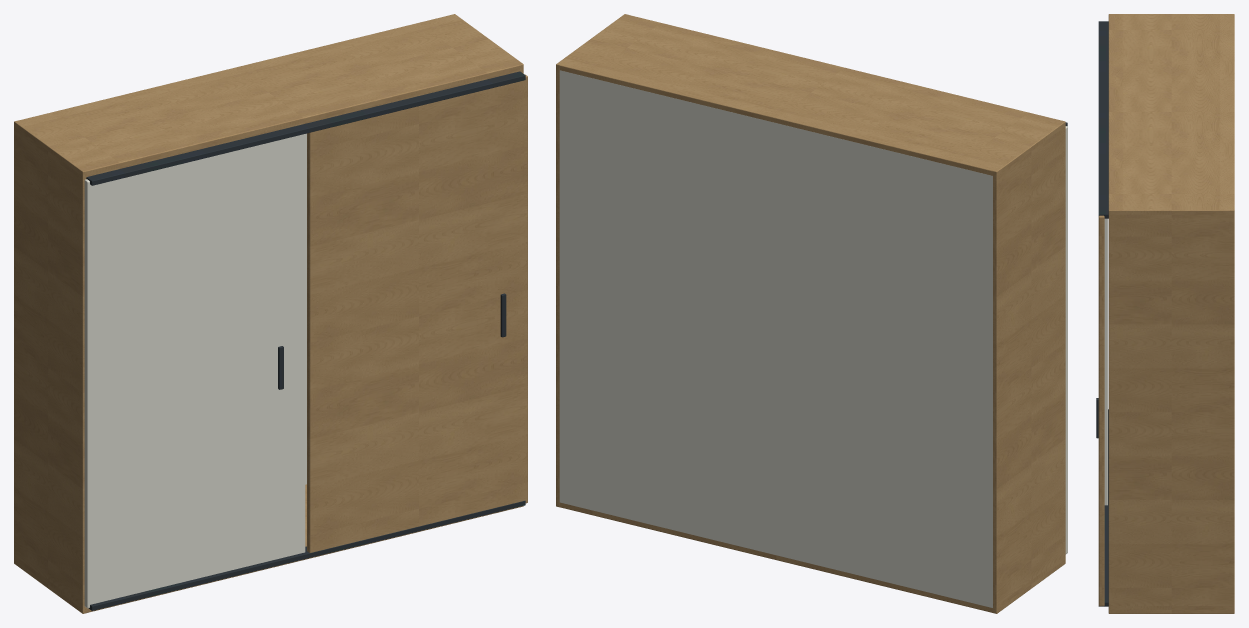
The model's file is sliding-door-wardrobe-original-interior-furnishing.glb.
3 views of the same model, side by side, from view 1: azimuth 30°, elevation 25°; view 2: azimuth 150°, elevation 25°; view 3: azimuth 270°, elevation 25° (orthographic). The views are drawn at different scales.
Visible parts, largest first — view 1: Wardrobe door.001, Wardrobe door, Cabinet top bottom.001, Cabinet side, Sliding door track.001, Sliding door track, Cabinet top bottom, Cabinet back; view 2: Cabinet back, Cabinet top bottom.001, Cabinet side, Cabinet top bottom, Cabinet side.001, Wardrobe door; view 3: Cabinet side.001, Cabinet top bottom.001, Wardrobe door.001, Sliding door track.001, Wardrobe door, Cabinet top bottom, Sliding door track.
Part boxes in pixels (x1,y1,x2,y2): Wardrobe door.001: (307,74,527,552); Wardrobe door: (84,134,305,608); Cabinet top bottom.001: (14,14,522,179); Cabinet side: (14,121,86,613); Sliding door track.001: (86,71,525,185); Sliding door track: (89,500,525,610); Cabinet top bottom: (14,484,519,612); Cabinet back: (305,133,306,484); Cabinet back: (559,70,992,607); Cabinet top bottom.001: (557,14,1065,179); Cabinet side: (993,120,1065,613); Cabinet top bottom: (560,502,1065,612); Cabinet side.001: (556,14,628,507); Wardrobe door: (1065,126,1067,554); Cabinet side.001: (1108,208,1234,613); Cabinet top bottom.001: (1108,14,1234,218); Wardrobe door.001: (1098,215,1104,606); Sliding door track.001: (1098,21,1108,218); Wardrobe door: (1104,218,1107,505); Cabinet top bottom: (1109,606,1233,613); Sliding door track: (1098,409,1108,606).
Size of the model in its own units: 2.4 by 2.3 by 0.7136.
3 materials, 3 textured.
